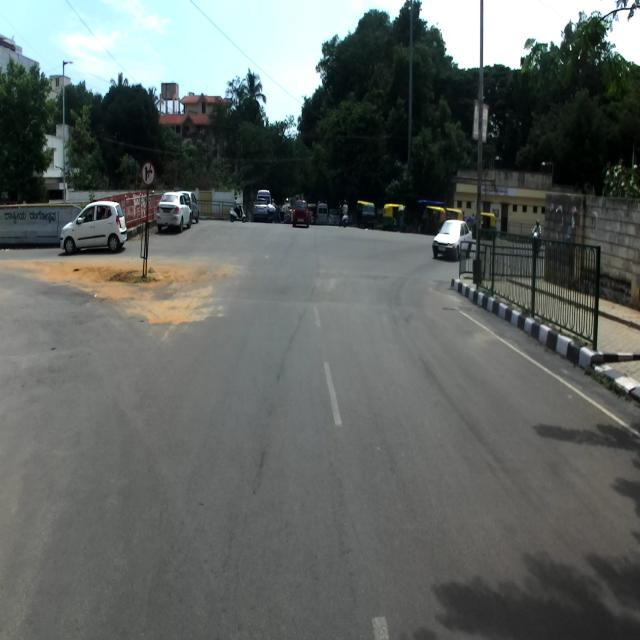car ahead at: (59, 197, 127, 260)
sign board ahead at: (138, 155, 160, 191)
